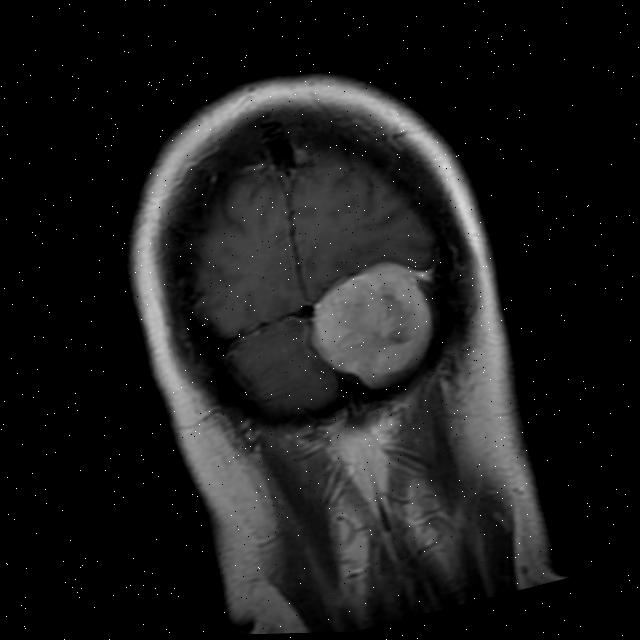Meningioma: (298, 246, 458, 402)
